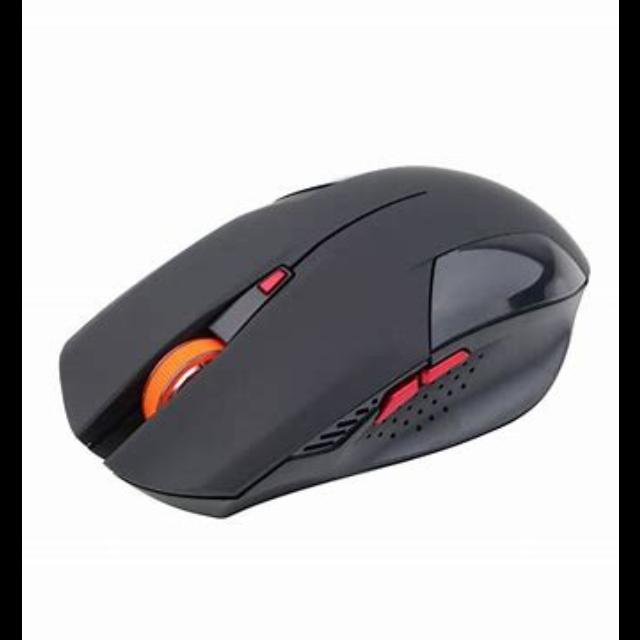Computer-Mouse: (57, 165, 592, 521)
